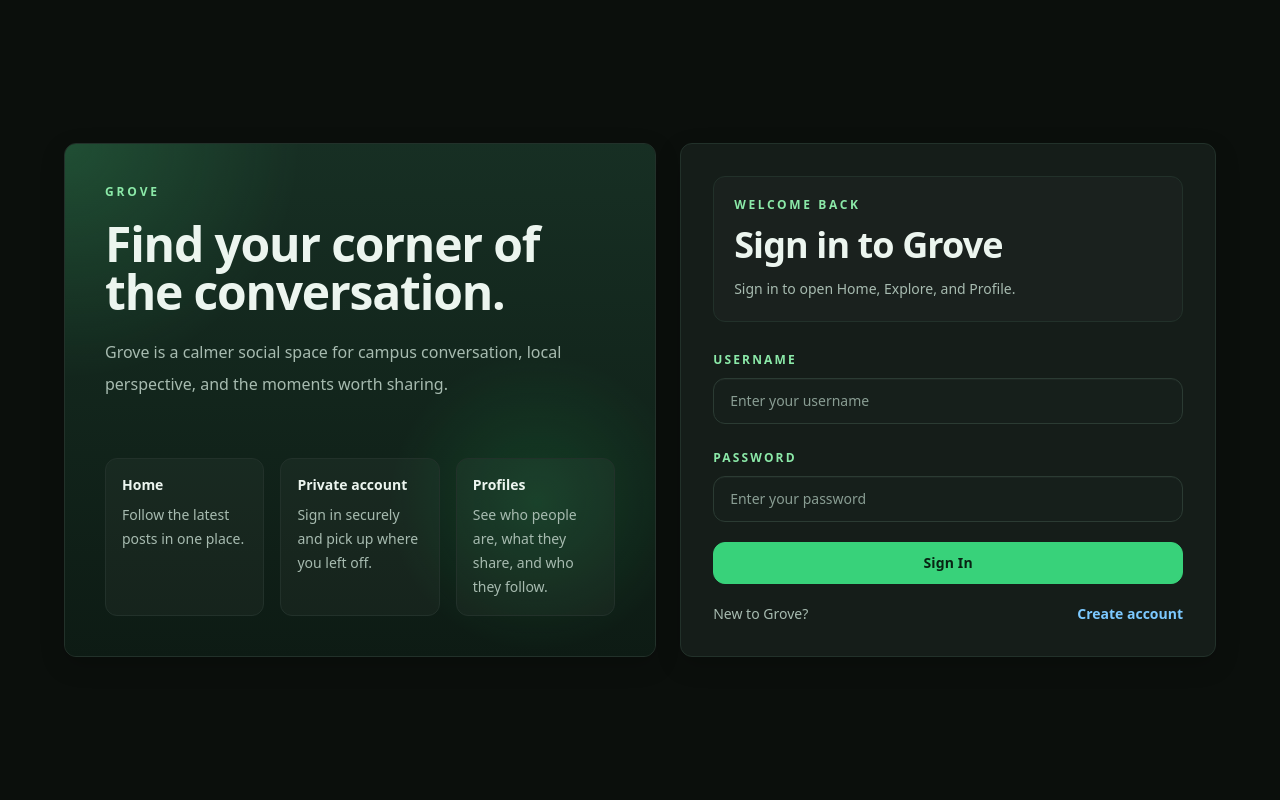
Scenario: LoginPage › shows inline invalid credentials message on 401
In the field labelled "Username": (948, 401) [713,378,1183,424], type "lucas"
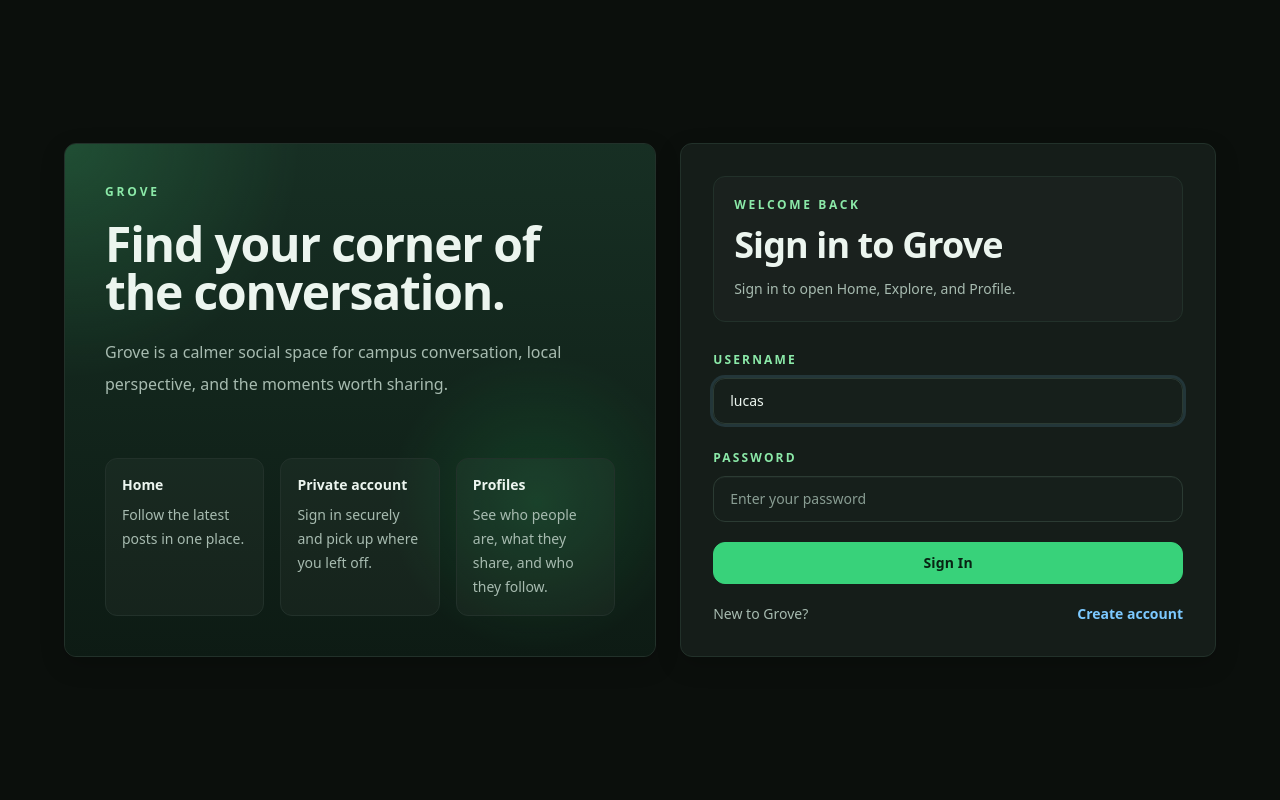
In the password field labelled "Password": (948, 499) [713,476,1183,522], type "wrong"
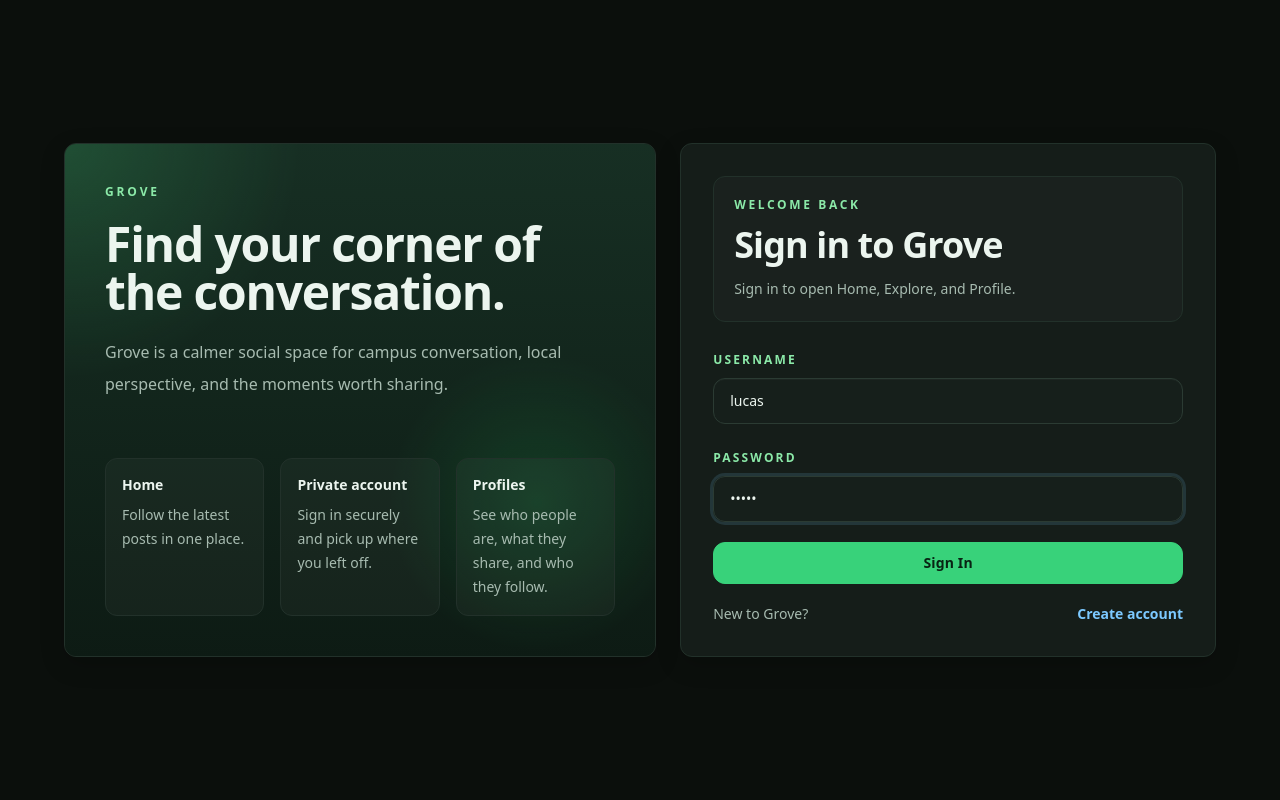
Click the button "Sign In": (948, 563) [713,542,1183,584]
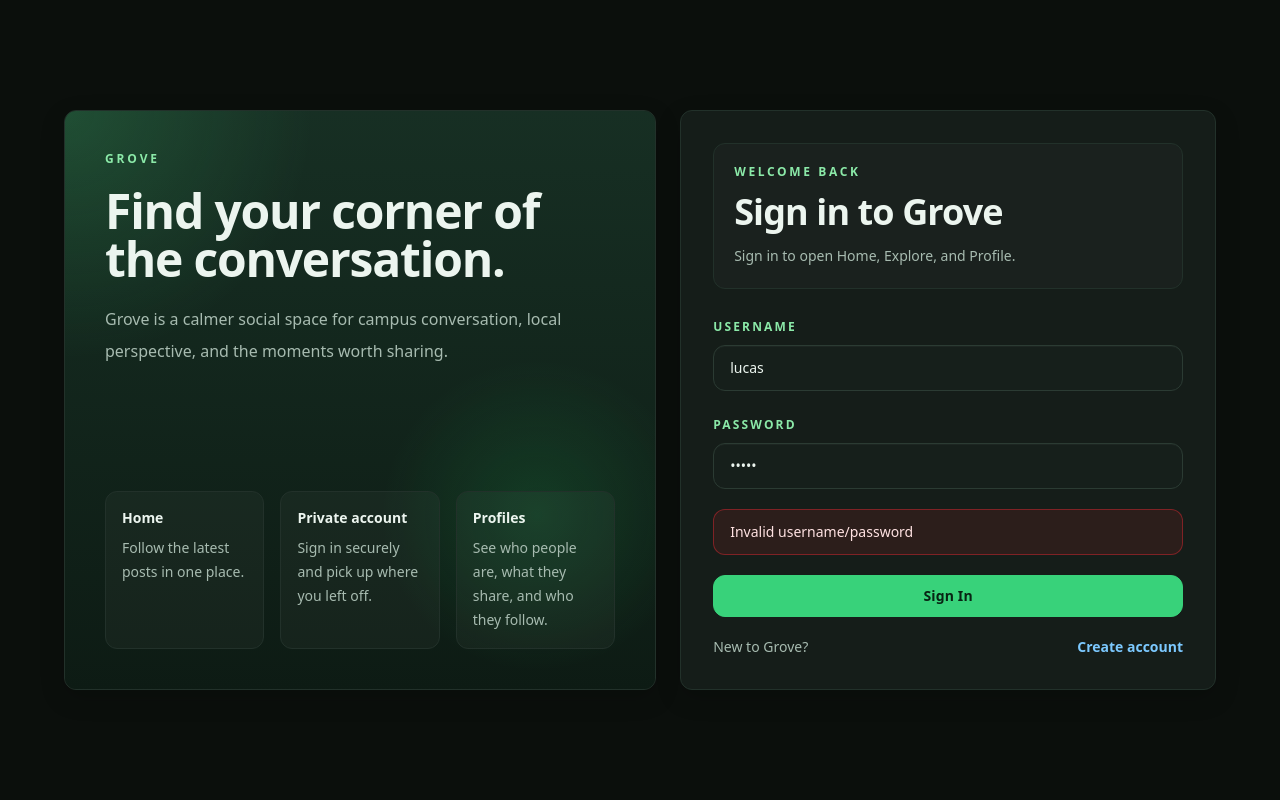
Result: the message reads "Invalid username/password" at [730,522,913,541]
